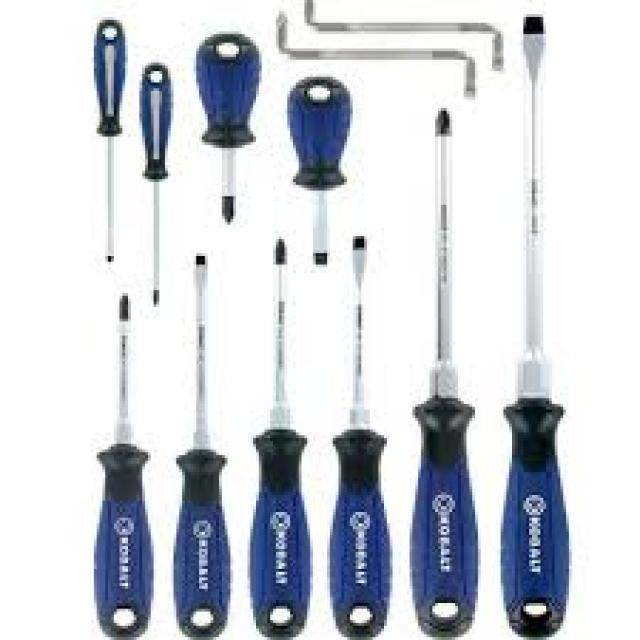screwdriver: (497, 8, 577, 640), (406, 102, 486, 640), (324, 230, 396, 640), (244, 236, 315, 640), (170, 251, 239, 640), (88, 293, 157, 640), (191, 28, 269, 228), (282, 70, 360, 270), (82, 10, 134, 271), (138, 60, 178, 312)
